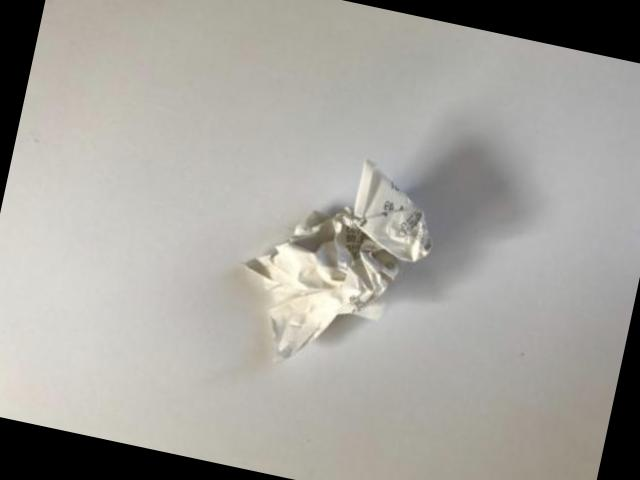cardboard paper: (243, 162, 428, 359)
